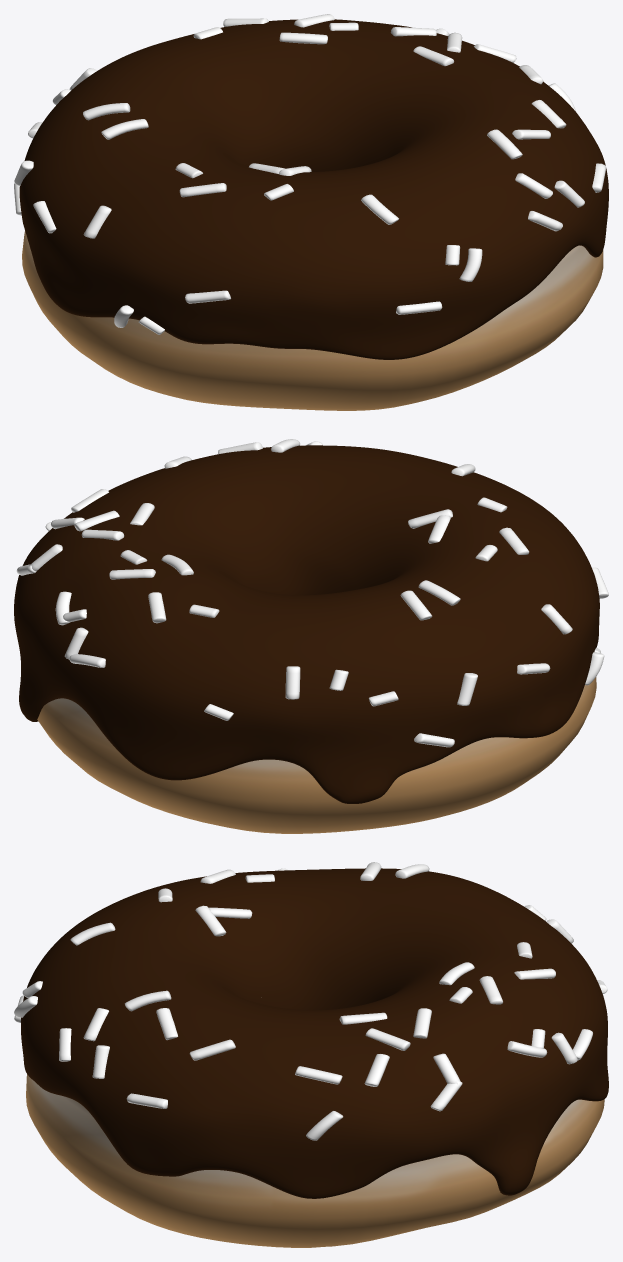
Rendered from sprinkles.glb.
The picture shows the model from 3 angles, top to bottom: view 1: azimuth 30°, elevation 25°; view 2: azimuth 150°, elevation 25°; view 3: azimuth 270°, elevation 25°; orthographic projection.
Parts seen in each view (by area): view 1: Icing, Donut; view 2: Icing, Donut; view 3: Icing, Donut.
Boxes of the visible parts, bbox=[...] form: Icing: bbox=[14, 14, 608, 359]; Donut: bbox=[22, 231, 603, 410]; Icing: bbox=[14, 439, 608, 803]; Donut: bbox=[37, 677, 596, 833]; Icing: bbox=[14, 862, 608, 1198]; Donut: bbox=[26, 1074, 604, 1247].
Size of the model in its own units: 0.0966 by 0.0408 by 0.0972.
Materials: 3 (1 with a texture image).
